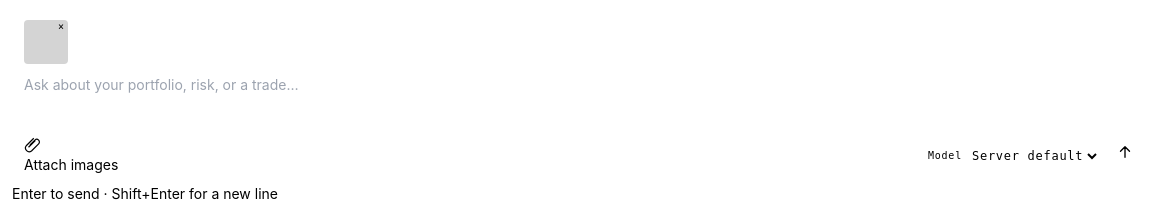
AskComposer — removing an attachment › disables send again once the last attachment is removed
Expected: the button named "Send" is enabled, [1108,140,1142,162]
Click the button named "Remove image": point(61, 27) [54,20,68,34]
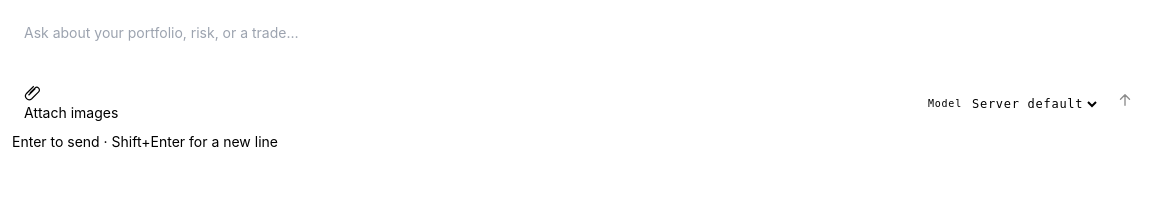
Now the button named "Send" is disabled, box [1108,88,1142,110]
